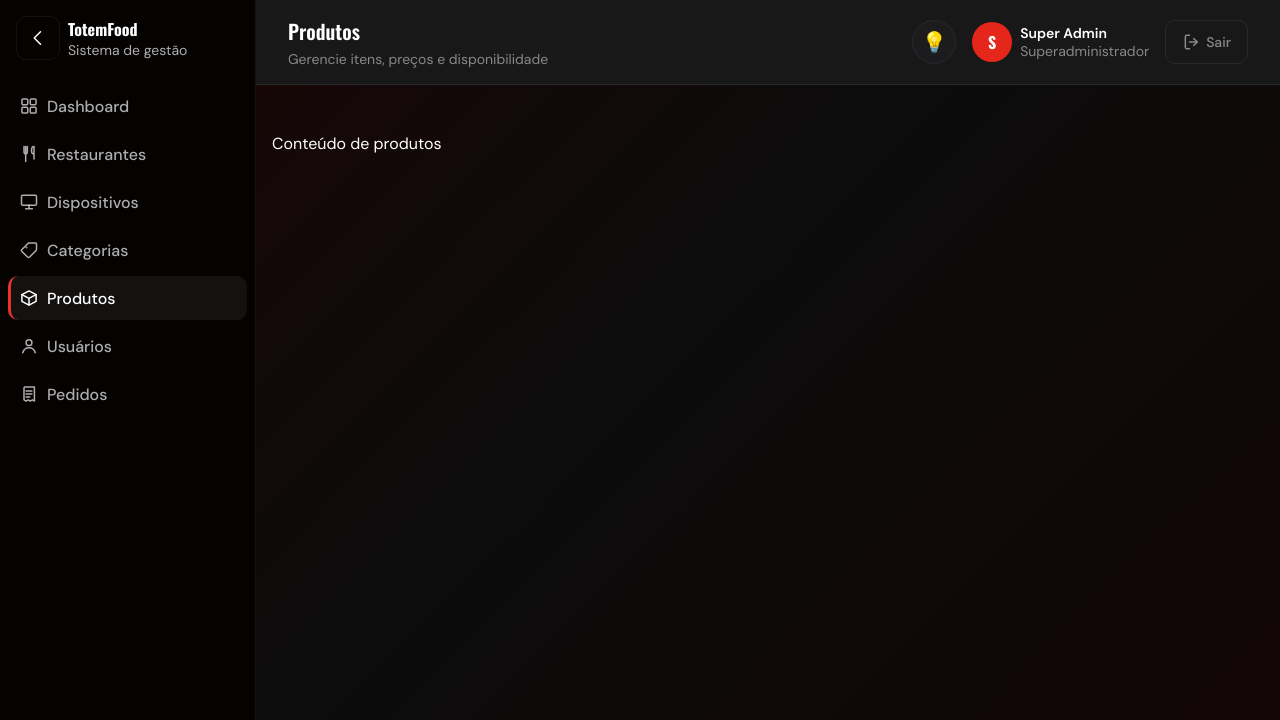
Test case: AdminLayout — recolher/expandir a sidebar › clicar no botão recolhe a sidebar, atualiza aria-expanded e persiste em localStorage
Click the button named "Recolher menu administrativo" at (38, 38), box x1=16 y1=16 x2=60 y2=60
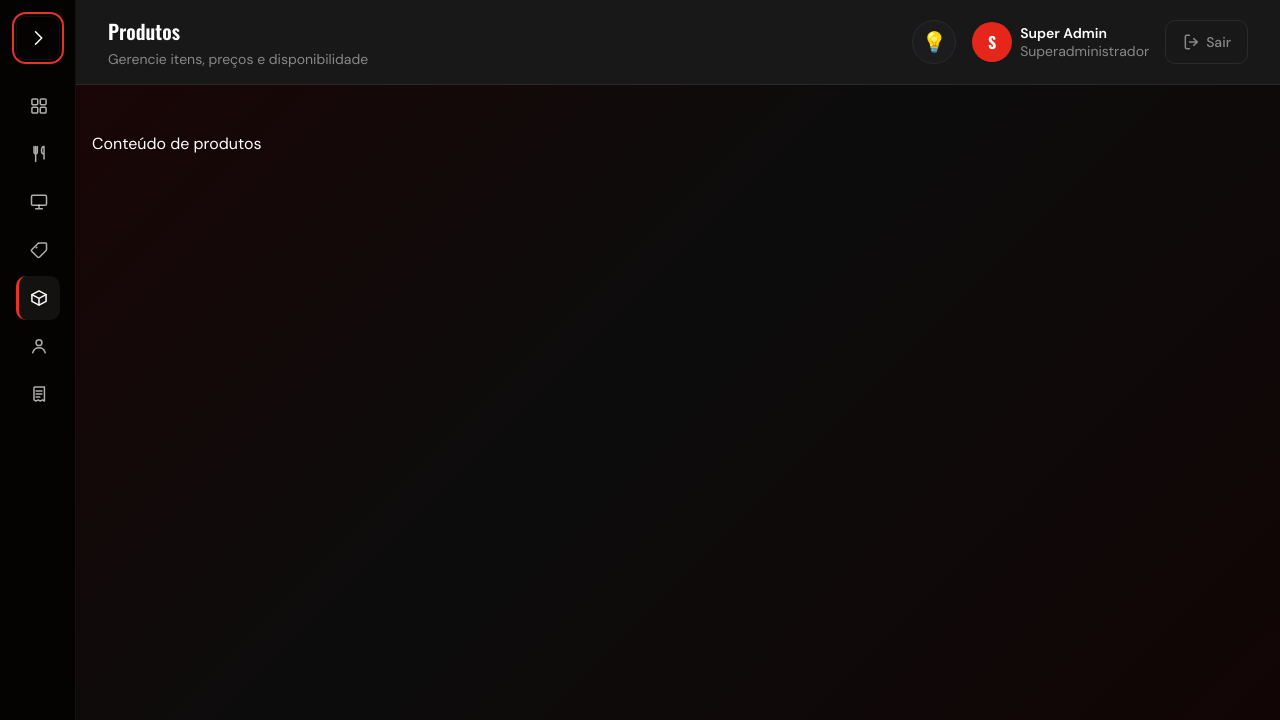
Now the button named "Expandir menu administrativo" is collapsed, box x1=16 y1=16 x2=60 y2=60
Now the element with class "admin-layout--collapsed" is shown
